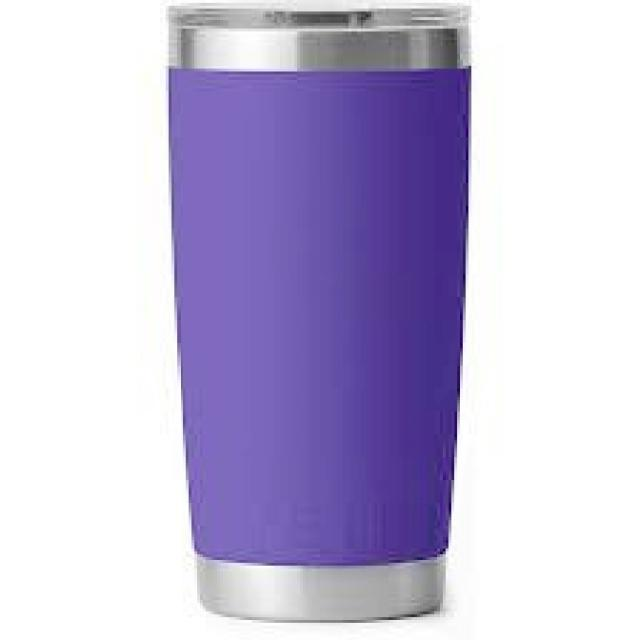bottle: (164, 5, 472, 640)
